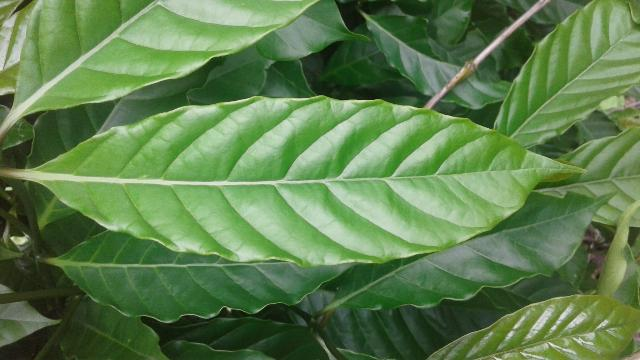healthy: (27, 95, 590, 268)
